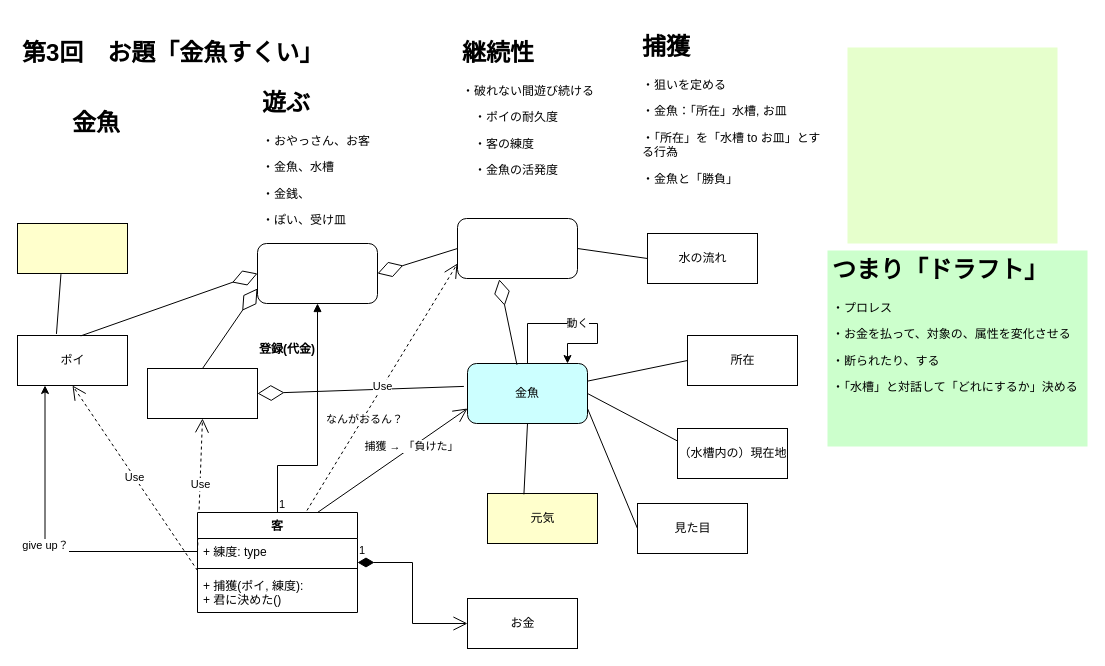
Image size: 1105x666. Some labels were removed from this diagram. The centre of each missing label's shape, as x and y in pixels:
LD L：ポイに魂がある D：おやっさんが息をしていない LD：「捕獲」は意外と難しい L：水槽強そう D：もうちょっとポイを活用すべき: the point at 952,145
おやっさん: the point at 317,273
お皿: the point at 202,393
水槽: the point at 517,248
耐久度: the point at 72,248
